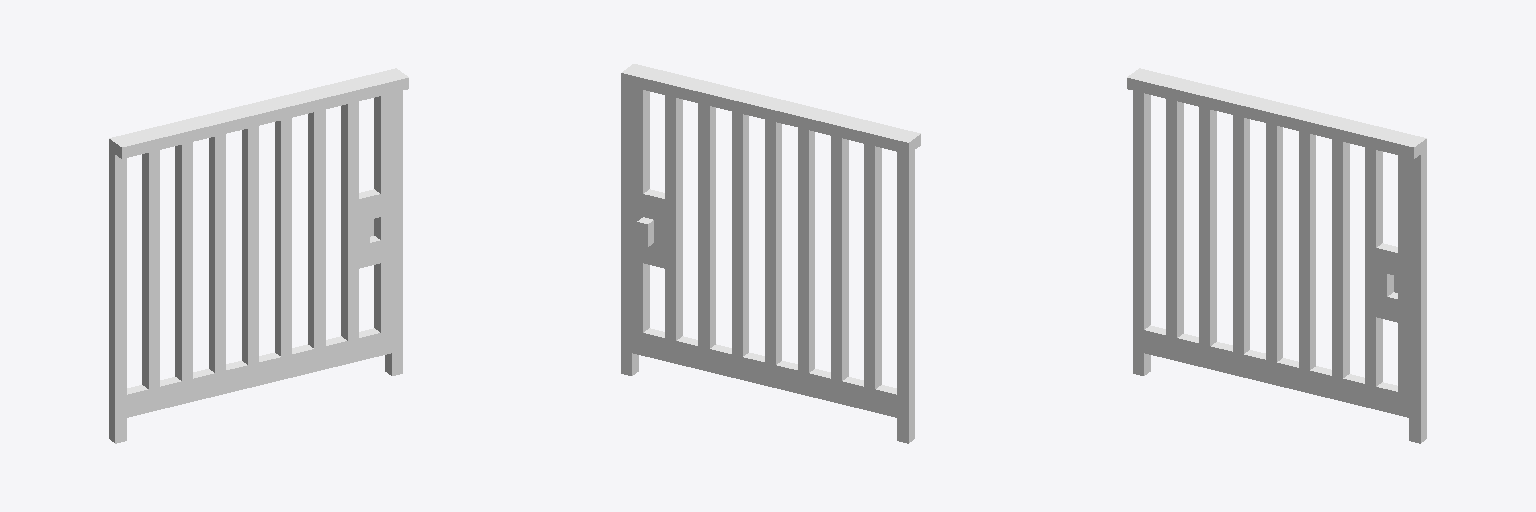
File: CageDoor.obj
The picture shows the model from 3 angles: view 1: azimuth 30°, elevation 25°; view 2: azimuth 150°, elevation 25°; view 3: azimuth 330°, elevation 25°; orthographic projection.
Visible parts, largest first — view 1: object 1; view 2: object 1; view 3: object 1.
Part boxes in pixels (left/top/right/bottom): object 1: left=109, top=68, right=408, bottom=443; object 1: left=621, top=64, right=920, bottom=443; object 1: left=1127, top=68, right=1426, bottom=443.
Size of the model in its own units: 2.6 by 2.6 by 0.3.